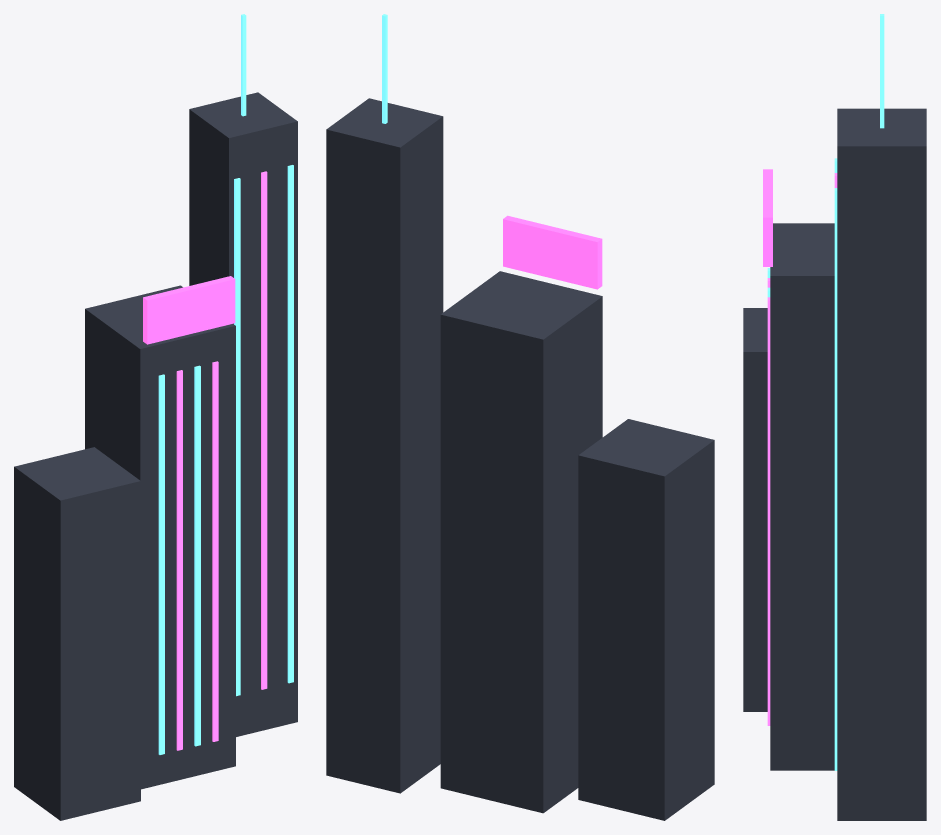
The model's file is prop_neon_tower.glb.
The picture shows the model from 3 angles, left to right: view 1: azimuth 30°, elevation 25°; view 2: azimuth 150°, elevation 25°; view 3: azimuth 270°, elevation 25°; orthographic projection. The views are drawn at different scales.
Parts seen in each view (by area): view 1: prop_neon_tower; view 2: prop_neon_tower; view 3: prop_neon_tower.
Boxes of the visible parts, x1=… form: prop_neon_tower: x1=14, y1=14, x2=297, y2=820; prop_neon_tower: x1=326, y1=14, x2=714, y2=820; prop_neon_tower: x1=743, y1=14, x2=926, y2=820.
Bounding box in the file's own units: 14.6 × 35 × 7.4.
